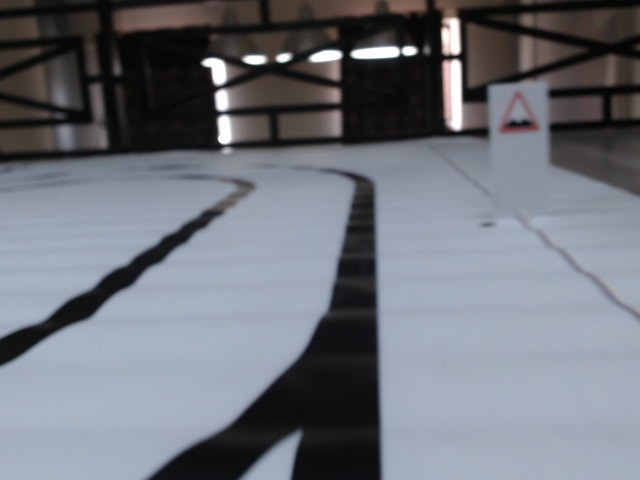Nerov: (498, 91, 541, 135)
